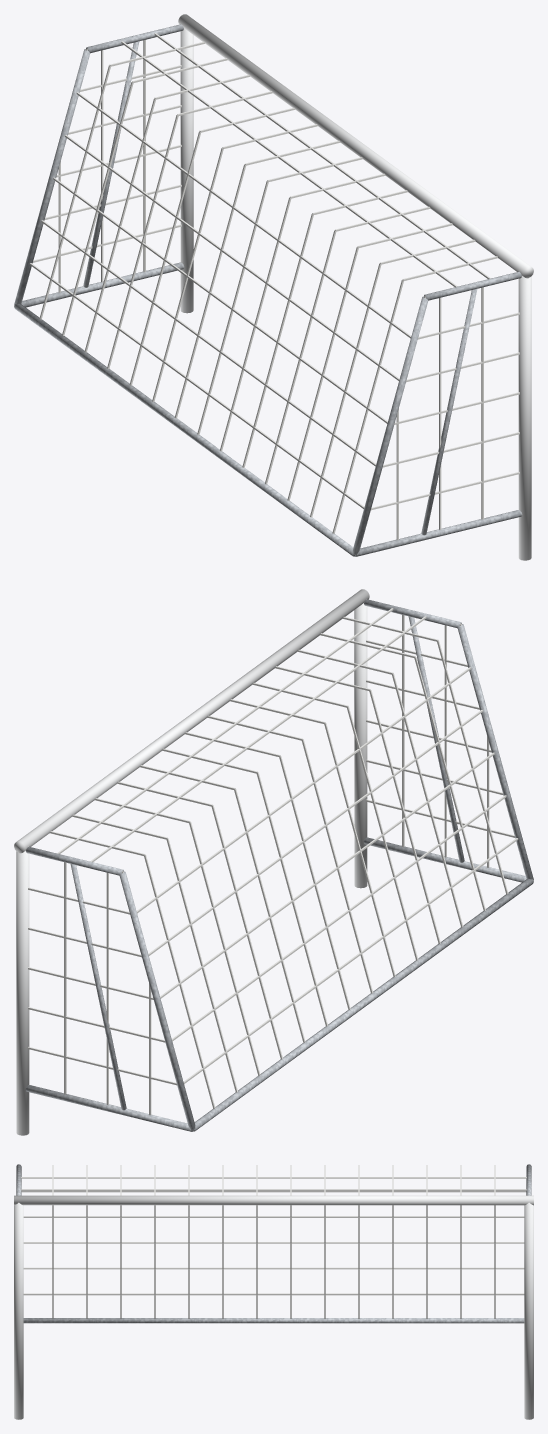
File: soccer_goal_mini.glb
3 views of the same model, one above another, from view 1: azimuth 30°, elevation 25°; view 2: azimuth 150°, elevation 25°; view 3: azimuth 270°, elevation 25° (orthographic). The views are drawn at different scales.
Visible parts, largest first — view 1: soccer_goal_mini_net, soccer_goal_mini_stanchions, soccer_goal_mini_frame; view 2: soccer_goal_mini_net, soccer_goal_mini_stanchions, soccer_goal_mini_frame; view 3: soccer_goal_mini_net, soccer_goal_mini_frame, soccer_goal_mini_stanchions.
Boxes of the visible parts, box(x1,y1,x2,y2) form: soccer_goal_mini_net: box(29, 33, 519, 540); soccer_goal_mini_stanchions: box(14, 24, 522, 556); soccer_goal_mini_frame: box(178, 14, 533, 560); soccer_goal_mini_net: box(28, 608, 518, 1115); soccer_goal_mini_stanchions: box(25, 599, 533, 1131); soccer_goal_mini_frame: box(14, 589, 369, 1135); soccer_goal_mini_net: box(21, 1165, 526, 1318); soccer_goal_mini_frame: box(14, 1195, 533, 1419); soccer_goal_mini_stanchions: box(16, 1164, 531, 1323).
Size of the model in its own units: 1.53 by 2.4 by 5.1.
3 materials, 1 textured.
